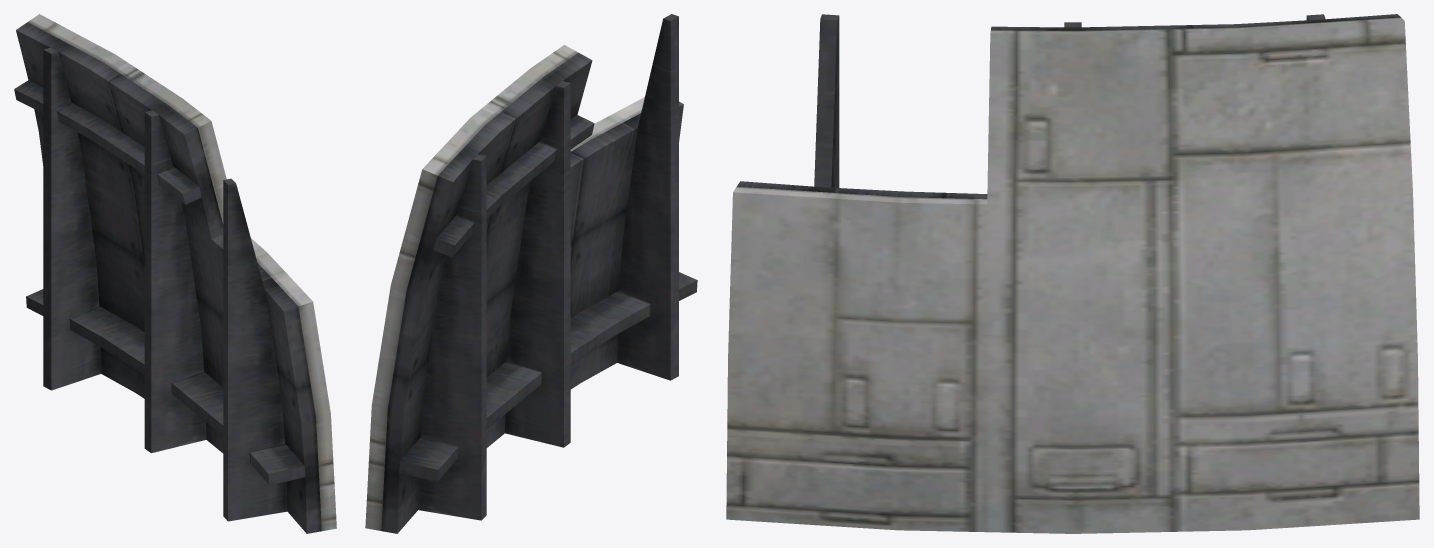
Rendered from ship_component_armor_s01_l1.fbx.
3 views of the same model, side by side, from view 1: azimuth 30°, elevation 25°; view 2: azimuth 150°, elevation 25°; view 3: azimuth 270°, elevation 25° (orthographic). The views are drawn at different scales.
Parts seen in each view (by area): view 1: mesh_node; view 2: mesh_node; view 3: mesh_node.
Boxes of the visible parts, <box> form: mesh_node: <box>14,14,336,533</box>; mesh_node: <box>365,14,697,533</box>; mesh_node: <box>726,14,1419,533</box>.
Size of the model in its own units: 0.3521 by 1.19 by 1.59.
